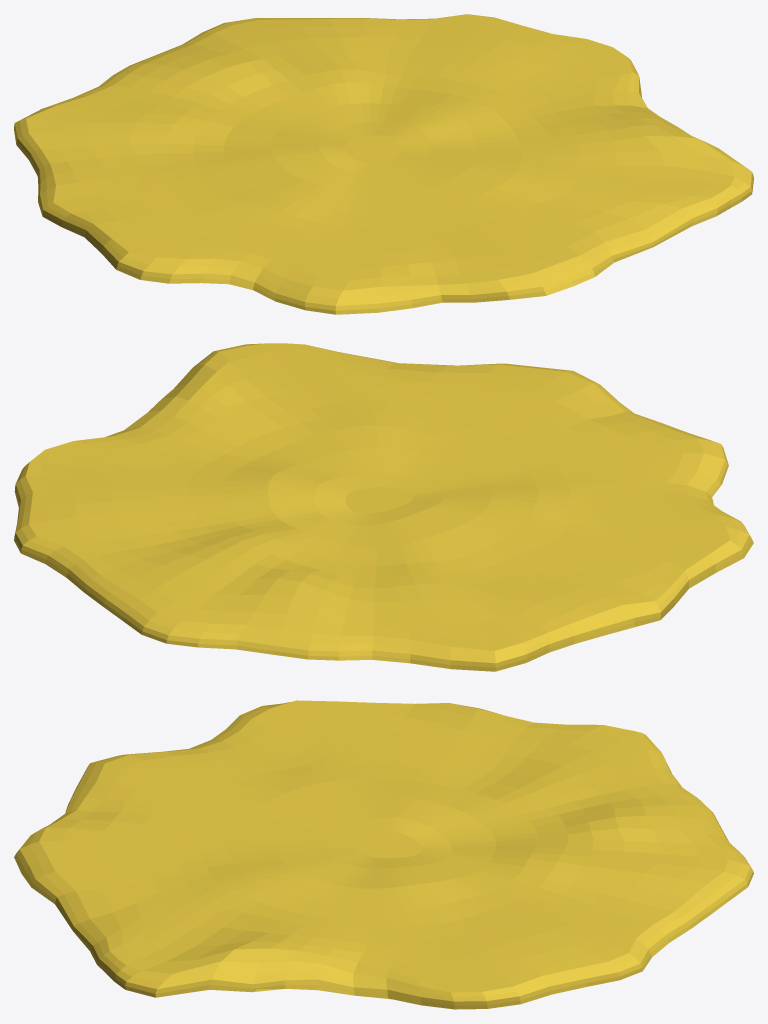
File: Syr.glb
3 renders of one model, top to bottom at view 1: azimuth 30°, elevation 25°; view 2: azimuth 150°, elevation 25°; view 3: azimuth 270°, elevation 25°, orthographic. The views are drawn at different scales.
Parts seen in each view (by area): view 1: Syr; view 2: Syr; view 3: Syr.
Part boxes in pixels (box(x1,y1,x2,y2)): Syr: box(14, 14, 753, 314); Syr: box(14, 343, 753, 671); Syr: box(14, 700, 753, 1009).
Size of the model in its own units: 0.1841 by 0.00901 by 0.1914.
